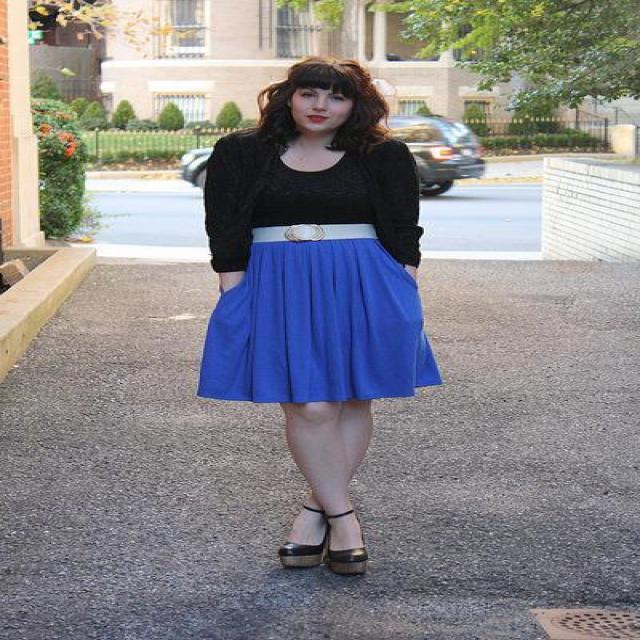shirt: (197, 132, 424, 292)
shoe: (266, 536, 370, 580)
skirt: (197, 224, 440, 402)
